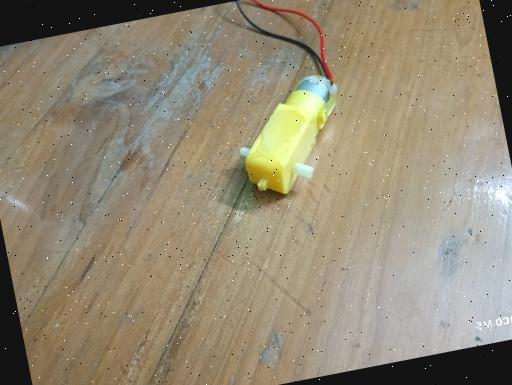Motor: (226, 68, 358, 204)
